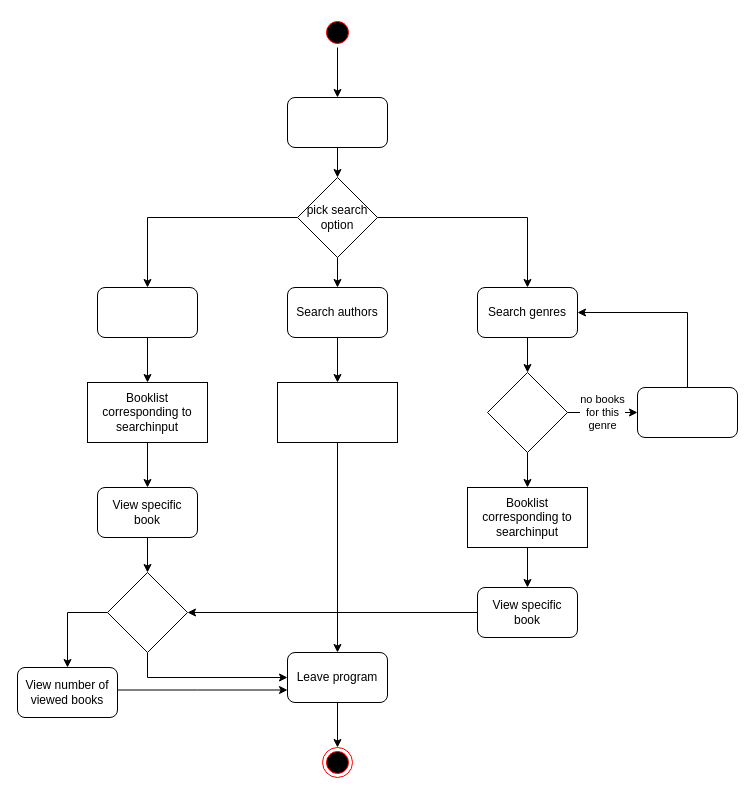
Some shapes in this 755 by 795 pixel diagram are drawn without their labels. Each missing label, with the box of its shape:
Author information corresponding to searchinput: (276, 382, 398, 442)
Login as guest: (286, 96, 388, 148)
Return to search: (636, 386, 738, 438)
Search books by title or ISBN: (96, 286, 198, 338)
